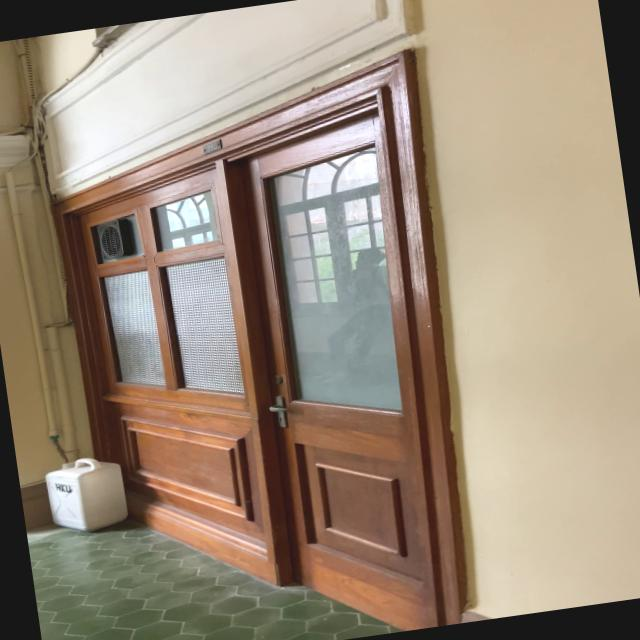room230: (200, 138, 226, 156)
